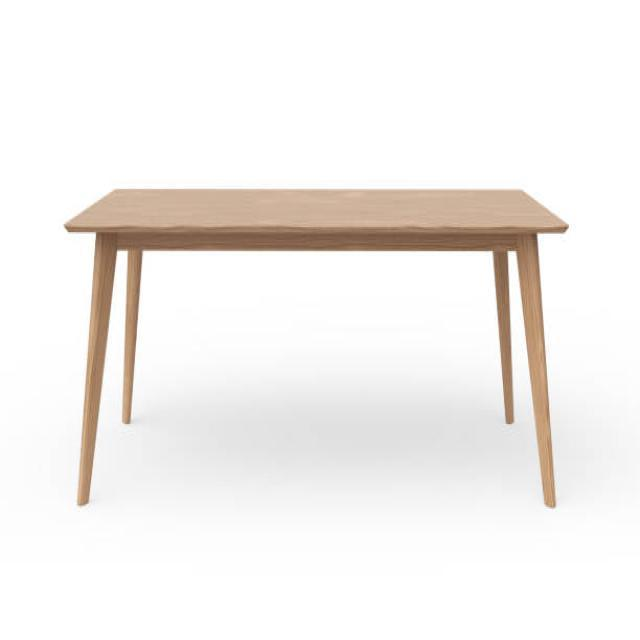table: (63, 185, 569, 510)
